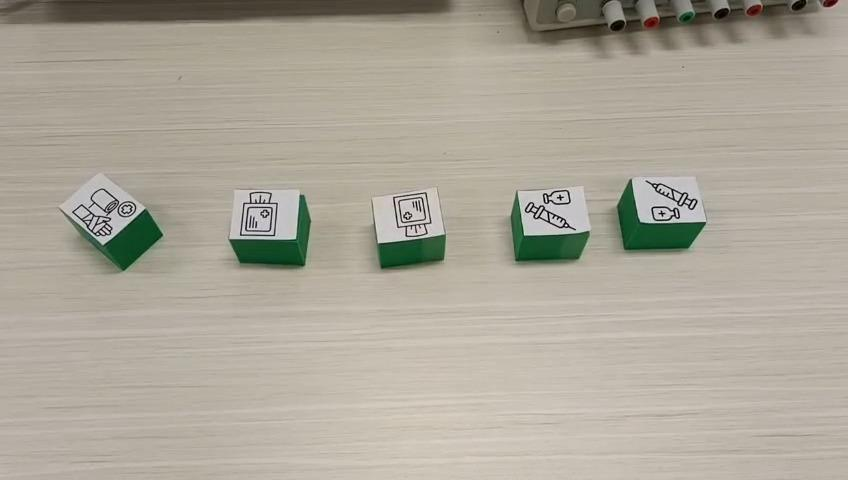Bandages: (56, 172, 164, 271)
Gauze: (229, 188, 312, 267), (371, 185, 446, 269)
antiseptic cream: (617, 174, 707, 250), (509, 184, 591, 260)
